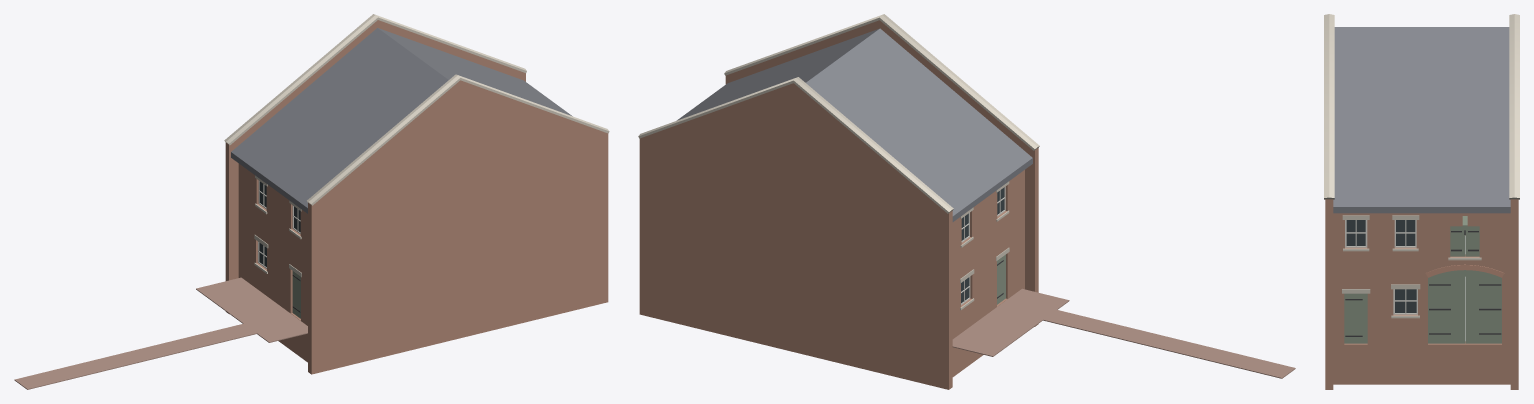
File: tolman_house_2031_prairie_coach_house__as_standing_1904.glb
The picture shows the model from 3 angles, left to right: view 1: azimuth 30°, elevation 25°; view 2: azimuth 150°, elevation 25°; view 3: azimuth 270°, elevation 25°; orthographic projection. The views are drawn at different scales.
Parts seen in each view (by area): view 1: tolman_house_2031_prairie_coach_house__as_standing_1904; view 2: tolman_house_2031_prairie_coach_house__as_standing_1904; view 3: tolman_house_2031_prairie_coach_house__as_standing_1904.
Part boxes in pixels (x1,y1,x2,y2): tolman_house_2031_prairie_coach_house__as_standing_1904: (14, 14, 609, 389); tolman_house_2031_prairie_coach_house__as_standing_1904: (638, 14, 1295, 389); tolman_house_2031_prairie_coach_house__as_standing_1904: (1324, 14, 1519, 389).
Size of the model in its own units: 30.05 by 13.21 by 7.96.
